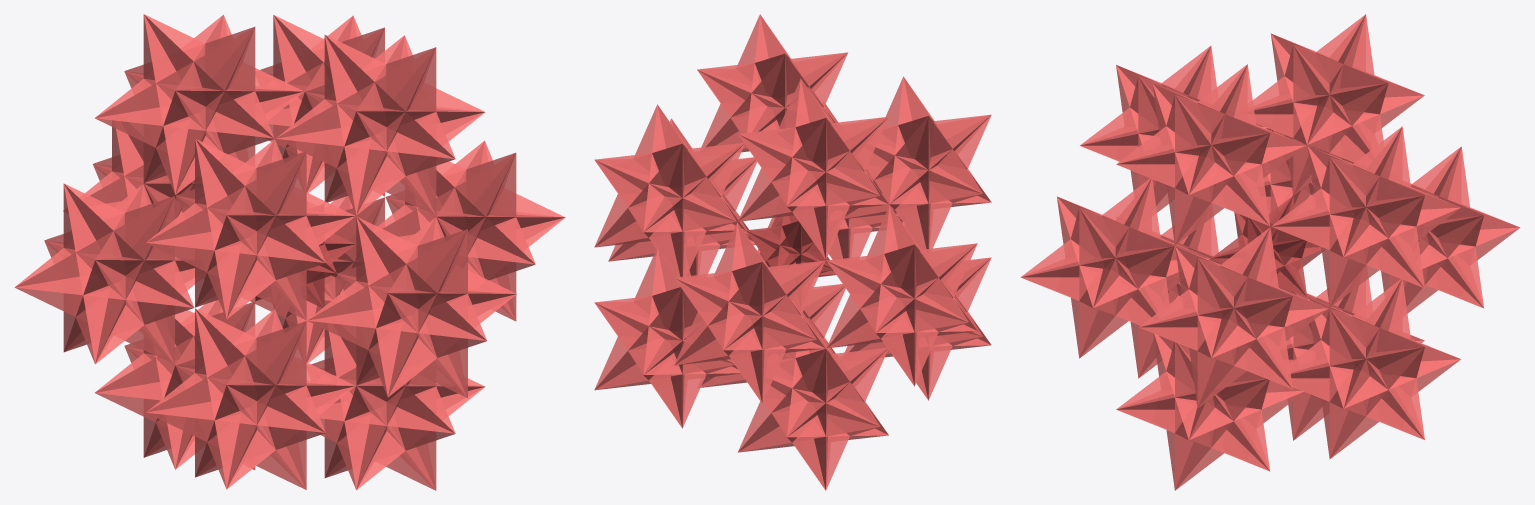
File: fractalgreaticosahedron1.glb
3 renders of one model, left to right at view 1: azimuth 30°, elevation 25°; view 2: azimuth 150°, elevation 25°; view 3: azimuth 270°, elevation 25°, orthographic. The views are drawn at different scales.
Bounding box in the file's own units: 12.01 × 10.49 × 12.01.
